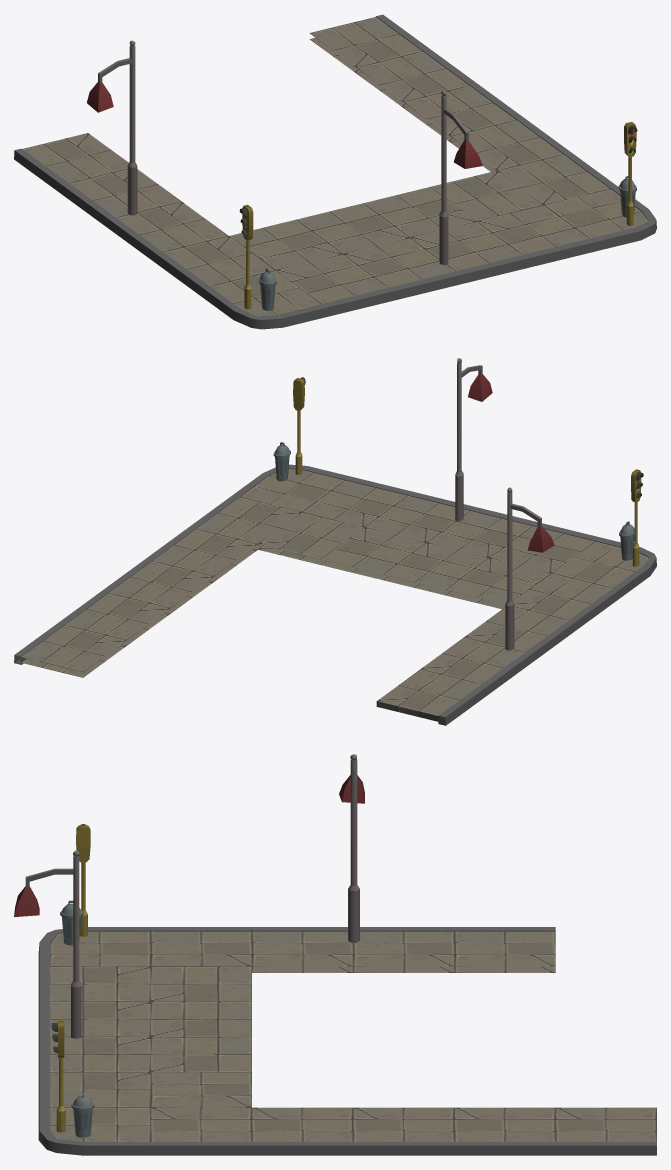
Rendered from Demo_Block (1).fbx.
3 views of the same model, one above another, from view 1: azimuth 30°, elevation 25°; view 2: azimuth 150°, elevation 25°; view 3: azimuth 270°, elevation 25° (orthographic). The views are drawn at different scales.
Visible parts, largest first — view 1: Sidewalk; view 2: Sidewalk; view 3: Sidewalk.
Boxes of the visible parts, bbox=[...] form: Sidewalk: bbox=[14, 14, 656, 329]; Sidewalk: bbox=[14, 358, 656, 725]; Sidewalk: bbox=[14, 754, 656, 1155].
Bounding box in the file's own units: 1499 × 599 × 1788.
Materials: 1 (1 with a texture image).
